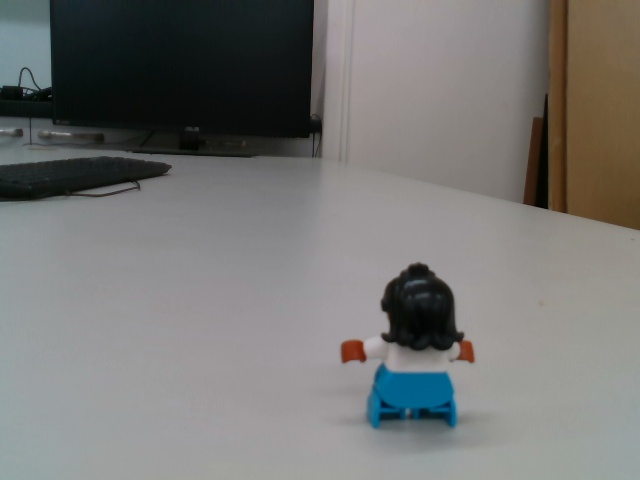people: (339, 262, 479, 429)
